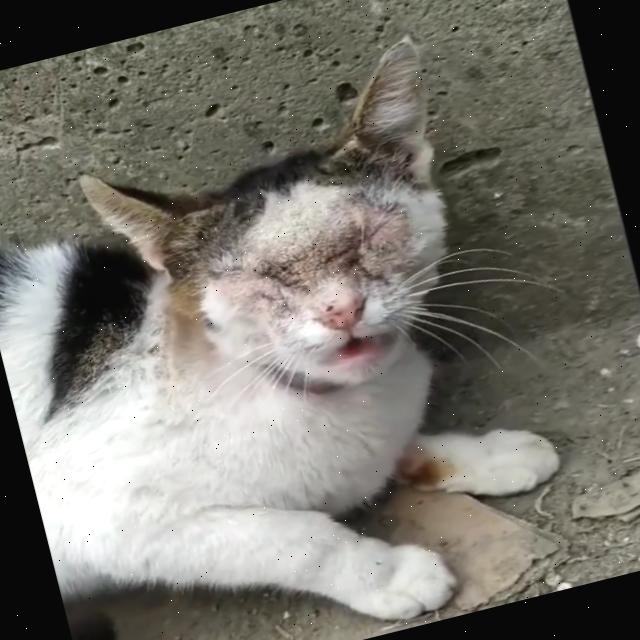cat-scabies: (197, 194, 415, 325), (308, 34, 452, 186)
